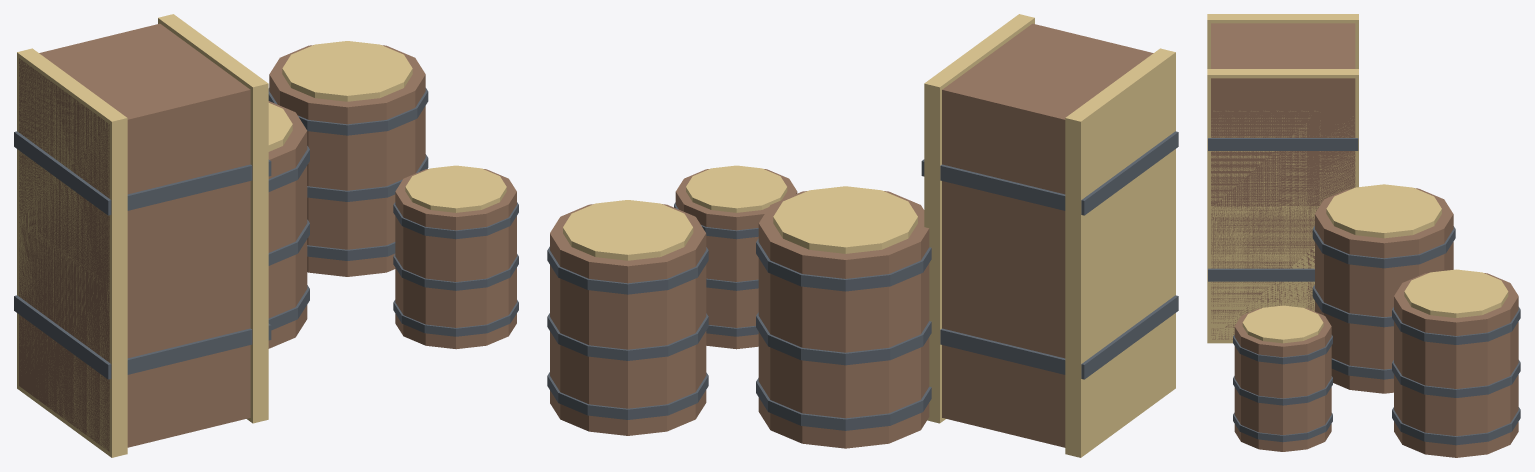
The model's file is reserves_du_port.glb.
The picture shows the model from 3 angles, left to right: view 1: azimuth 30°, elevation 25°; view 2: azimuth 150°, elevation 25°; view 3: azimuth 270°, elevation 25°; orthographic projection. The views are drawn at different scales.
Parts seen in each view (by area): view 1: static_wood, static_brass, static_dark; view 2: static_wood, static_brass, static_dark; view 3: static_wood, static_brass, static_dark.
Boxes of the visible parts, bbox=[...] form: static_wood: bbox=[19, 23, 516, 451]; static_brass: bbox=[17, 14, 506, 457]; static_dark: bbox=[14, 88, 518, 379]; static_wood: bbox=[550, 23, 1153, 448]; static_brass: bbox=[563, 14, 1175, 457]; static_dark: bbox=[547, 131, 1178, 430]; static_wood: bbox=[1211, 23, 1518, 457]; static_brass: bbox=[1207, 14, 1508, 343]; static_dark: bbox=[1208, 138, 1520, 445].
Bounding box in the file's own units: 2.97 × 2.05 × 2.17.
